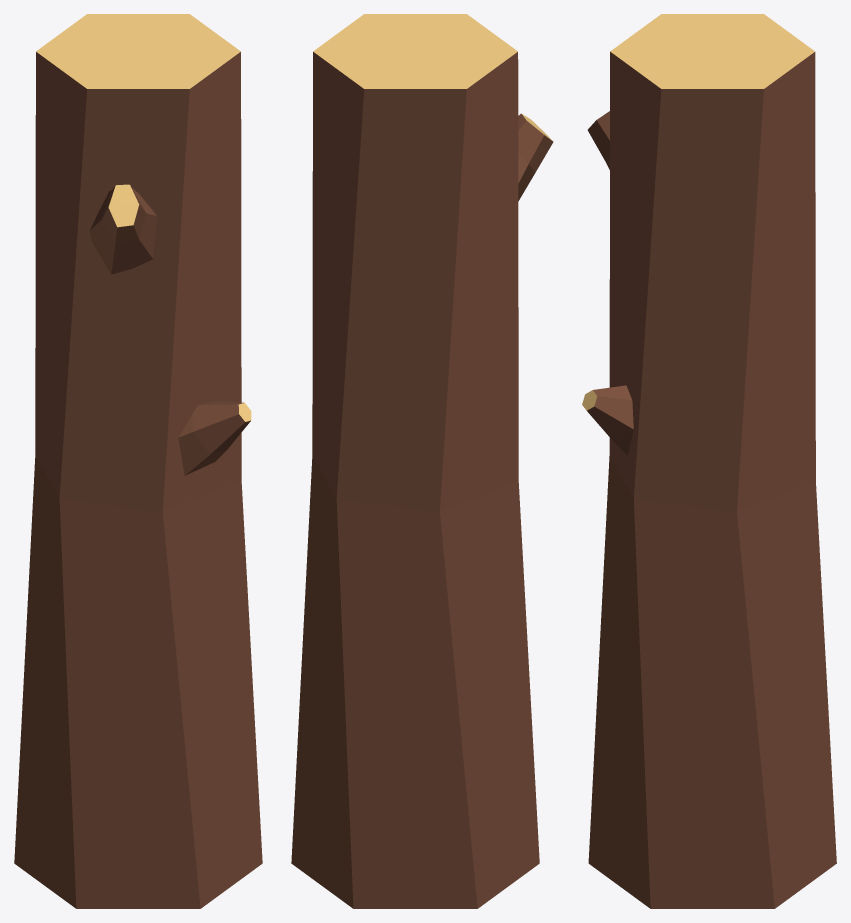
The model's file is Log1.fbx.
The picture shows the model from 3 angles, left to right: view 1: azimuth 30°, elevation 25°; view 2: azimuth 150°, elevation 25°; view 3: azimuth 270°, elevation 25°; orthographic projection.
Parts seen in each view (by area): view 1: Log1; view 2: Log1; view 3: Log1.
Boxes of the visible parts, x1,y1,x2,y2 form: Log1: [14, 14, 262, 908]; Log1: [291, 14, 553, 908]; Log1: [582, 14, 836, 908].
Bounding box in the file's own units: 167 × 695 × 198.
